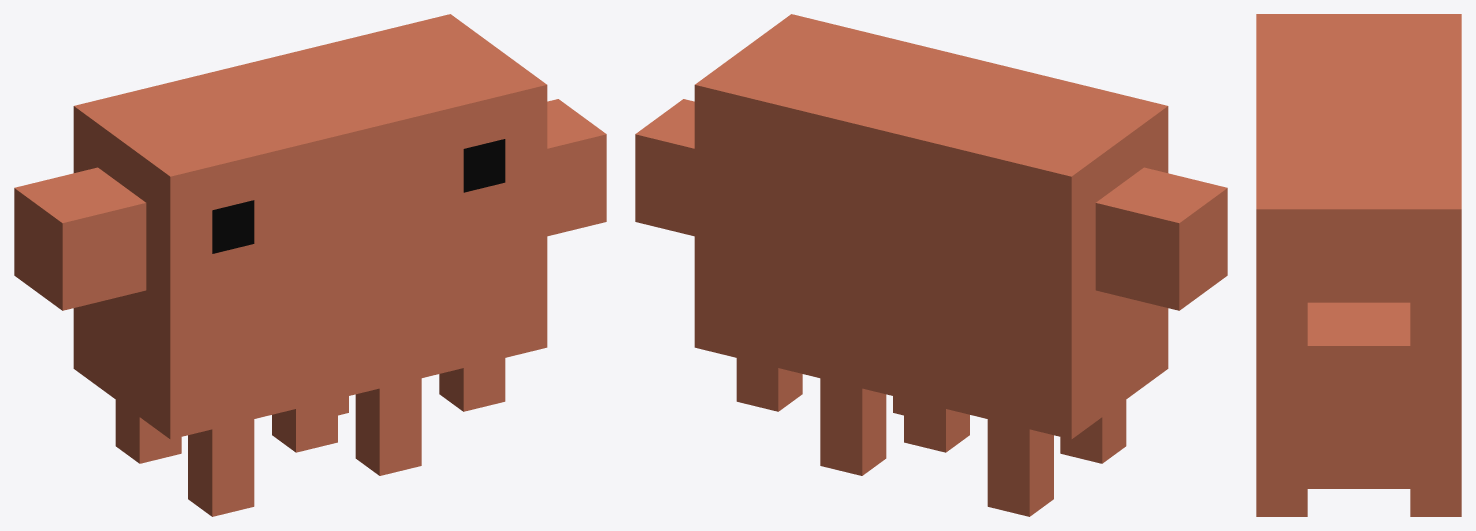
File: crab.obj
3 renders of one model, left to right at view 1: azimuth 30°, elevation 25°; view 2: azimuth 150°, elevation 25°; view 3: azimuth 270°, elevation 25°, orthographic. The views are drawn at different scales.
Visible parts, largest first — view 1: Crab, Eye; view 2: Crab; view 3: Crab.
Boxes of the visible parts, left/top/right/bottom form: Crab: left=14, top=14, right=606, bottom=516; Eye: left=212, top=139, right=505, bottom=253; Crab: left=635, top=14, right=1227, bottom=516; Crab: left=1256, top=14, right=1461, bottom=516.
Bounding box in the file's own units: 13 × 8 × 4.
